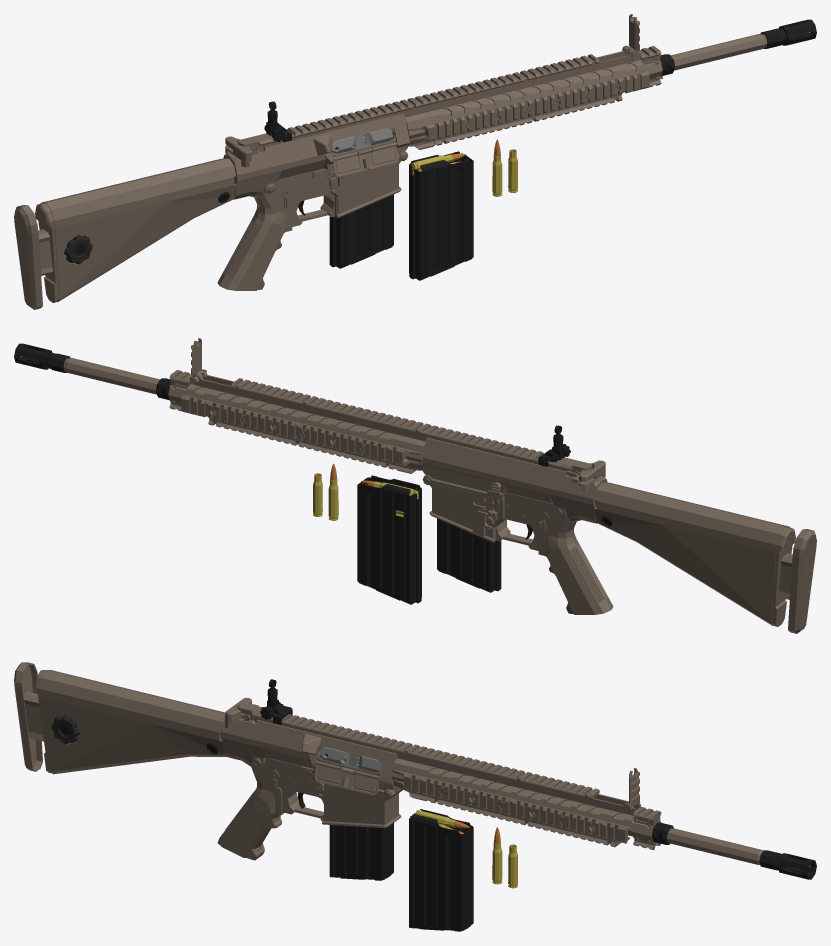
File: low-poly_m110_sass.glb
3 renders of one model, top to bottom at view 1: azimuth 30°, elevation 25°; view 2: azimuth 150°, elevation 25°; view 3: azimuth 330°, elevation 25°, orthographic.
Visible parts, largest first — view 1: m110 stock_18, m110 handguard_13, 76251 ar10 20rnd mag_2, m110 upper _21, m110 lower_14, m110 762 20in barrel_5, m110 grip_12, 76251 ar10 20rnd empty mag_1, m110 stock butt_19, m110 dust cover_10, m110 flash hider_11, m110 bolt_6 (+1 smaller); view 2: m110 stock_18, m110 handguard_13, m110 upper _21, 76251 ar10 20rnd mag_2, m110 lower_14, m110 762 20in barrel_5, m110 grip_12, 76251 ar10 20rnd empty mag_1, m110 stock butt_19, m110 flash hider_11, kac micro buis rear sight_4, m110 charging handle_9; view 3: m110 stock_18, m110 handguard_13, 76251 ar10 20rnd mag_2, m110 upper _21, m110 lower_14, m110 762 20in barrel_5, 76251 ar10 20rnd empty mag_1, m110 grip_12, m110 stock butt_19, m110 dust cover_10, m110 flash hider_11, m110 bolt_6 (+1 smaller).
Part boxes in pixels (bbox=[...]): m110 stock_18: bbox=[35, 158, 236, 302]; m110 handguard_13: bbox=[398, 14, 649, 149]; 76251 ar10 20rnd mag_2: bbox=[409, 151, 473, 280]; m110 upper _21: bbox=[238, 101, 409, 183]; m110 lower_14: bbox=[223, 151, 408, 226]; m110 762 20in barrel_5: bbox=[393, 34, 767, 133]; m110 grip_12: bbox=[217, 204, 292, 290]; 76251 ar10 20rnd empty mag_1: bbox=[329, 194, 393, 268]; m110 stock butt_19: bbox=[14, 205, 53, 309]; m110 dust cover_10: bbox=[333, 142, 398, 176]; m110 flash hider_11: bbox=[760, 19, 816, 48]; m110 bolt_6: bbox=[332, 128, 393, 153]; m110 stock_18: bbox=[594, 482, 795, 626]; m110 handguard_13: bbox=[181, 338, 432, 473]; m110 upper _21: bbox=[422, 425, 592, 507]; 76251 ar10 20rnd mag_2: bbox=[357, 475, 421, 604]; m110 lower_14: bbox=[422, 475, 607, 550]; m110 762 20in barrel_5: bbox=[63, 358, 390, 443]; m110 grip_12: bbox=[538, 528, 613, 614]; 76251 ar10 20rnd empty mag_1: bbox=[437, 518, 501, 592]; m110 stock butt_19: bbox=[777, 529, 816, 633]; m110 flash hider_11: bbox=[14, 343, 70, 372]; kac micro buis rear sight_4: bbox=[538, 425, 570, 466]; m110 charging handle_9: bbox=[566, 460, 605, 491]; m110 stock_18: bbox=[35, 670, 225, 774]; m110 handguard_13: bbox=[391, 742, 640, 847]; 76251 ar10 20rnd mag_2: bbox=[409, 809, 473, 931]; m110 upper _21: bbox=[231, 703, 404, 796]; m110 lower_14: bbox=[220, 717, 401, 828]; m110 762 20in barrel_5: bbox=[429, 768, 763, 864]; 76251 ar10 20rnd empty mag_1: bbox=[329, 823, 393, 880]; m110 grip_12: bbox=[217, 781, 284, 860]; m110 stock butt_19: bbox=[14, 662, 43, 771]; m110 dust cover_10: bbox=[314, 761, 379, 795]; m110 flash hider_11: bbox=[759, 850, 816, 879]; m110 bolt_6: bbox=[319, 747, 381, 772].
Bounding box in the file's own units: 10.56 × 2.68 × 0.5904.
